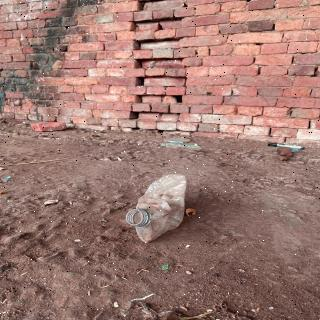Plastic-bottle: (122, 171, 194, 247)
